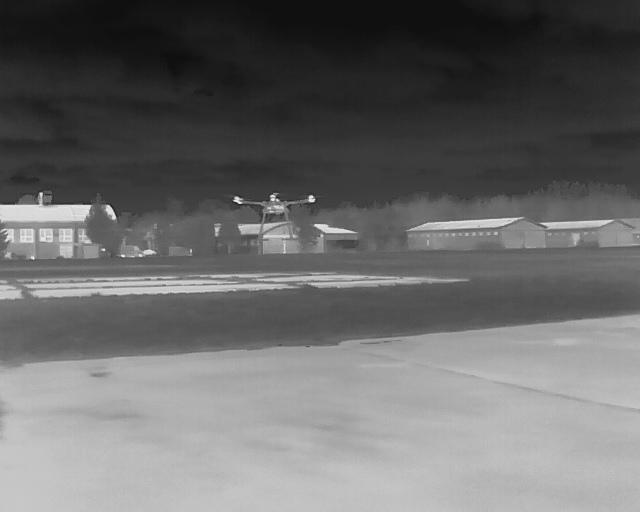drone: (217, 180, 337, 247)
